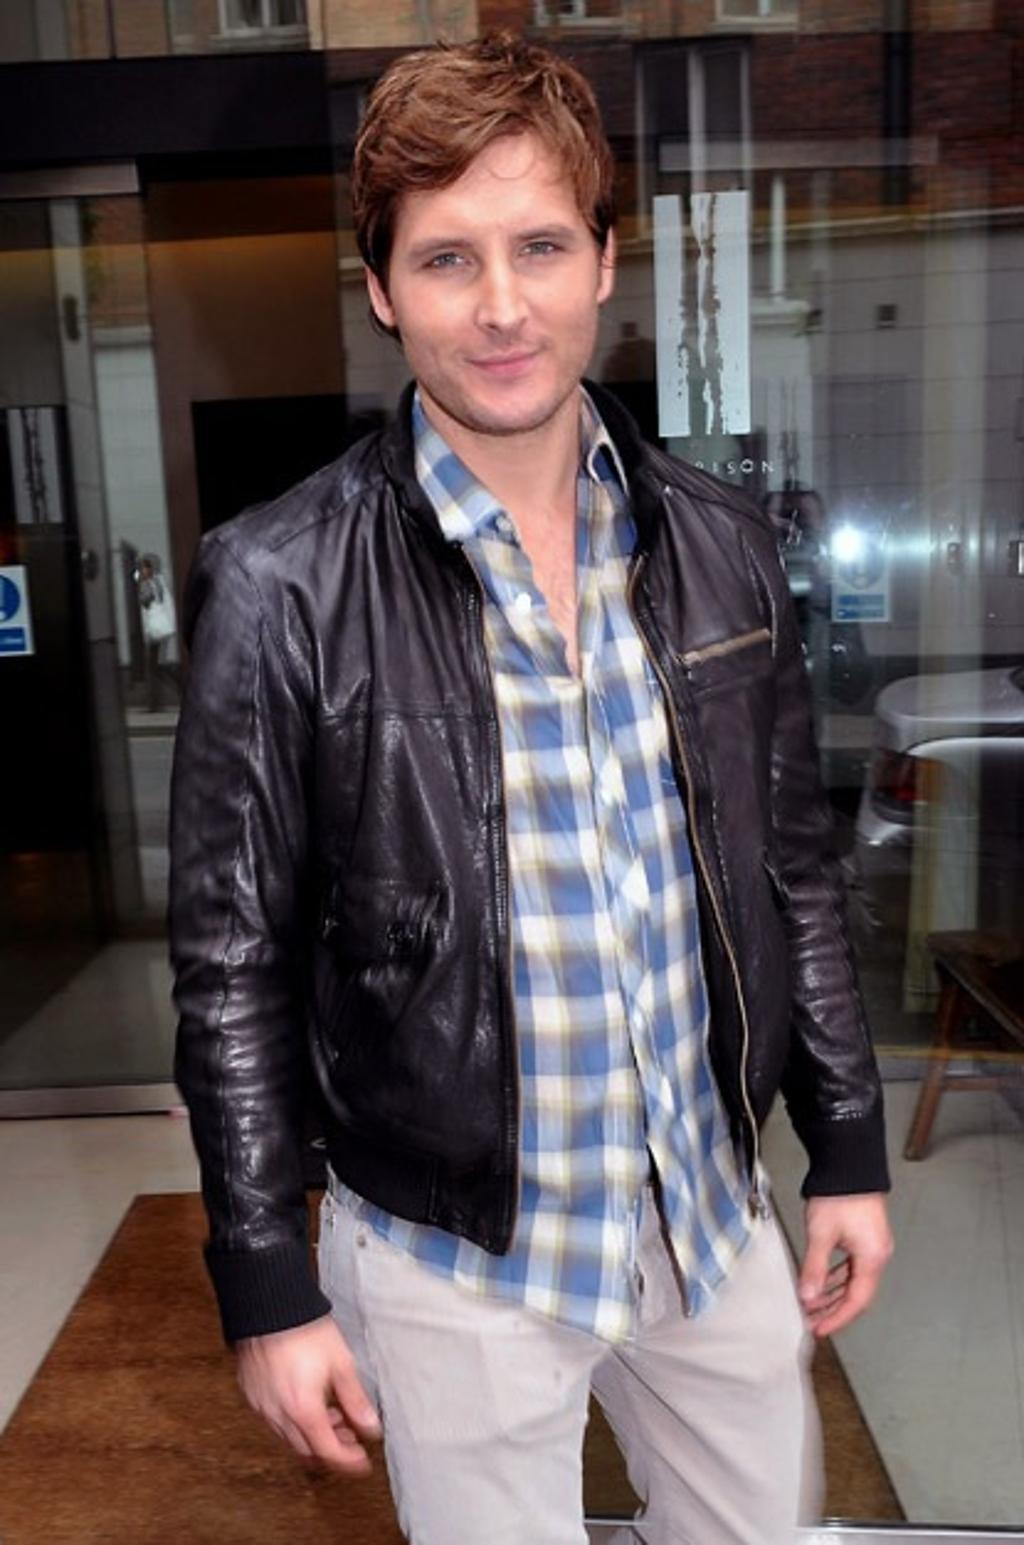face: (415, 152, 596, 415)
